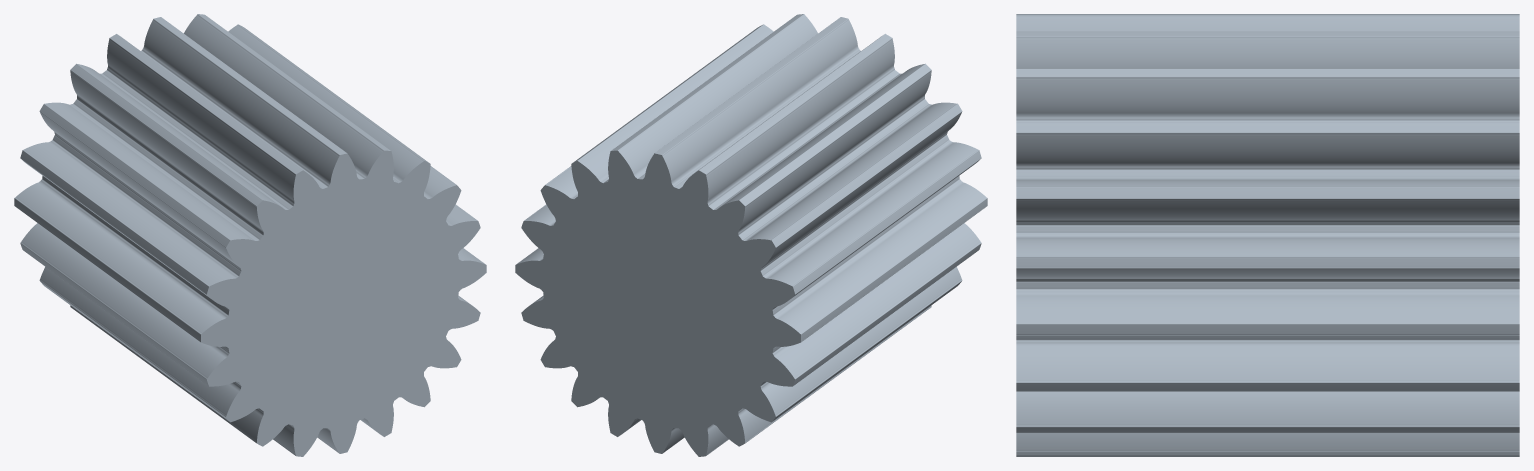
File: pargear2.obj
3 views of the same model, side by side, from view 1: azimuth 30°, elevation 25°; view 2: azimuth 150°, elevation 25°; view 3: azimuth 270°, elevation 25° (orthographic). The views are drawn at different scales.
Parts seen in each view (by area): view 1: 1; view 2: 1; view 3: 1.
Boxes of the visible parts, box(x1,y1,x2,y2) form: 1: box(14, 14, 486, 456); 1: box(515, 14, 987, 456); 1: box(1016, 14, 1519, 456).
Bounding box in the file's own units: 164 × 164 × 185.
